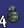grenade: (0, 1, 24, 28)
